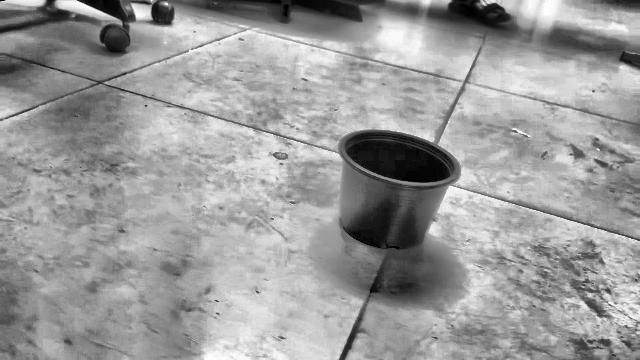pot: (339, 130, 460, 249)
